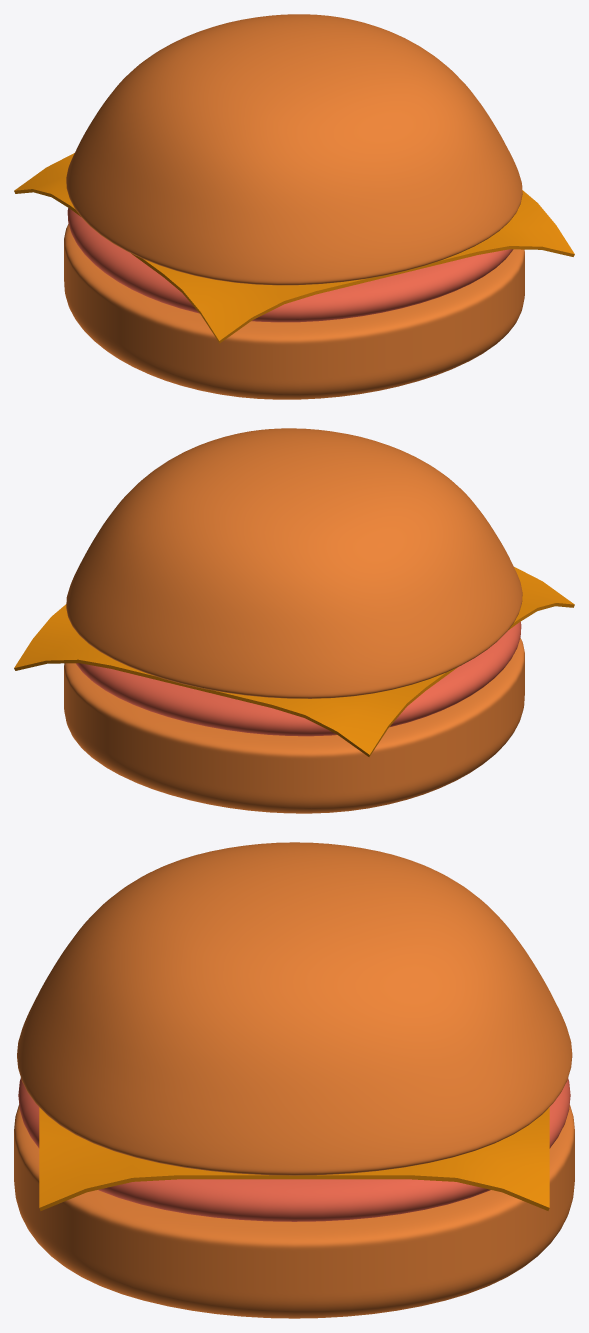
Rendered from hamburger.glb.
3 views of the same model, one above another, from view 1: azimuth 30°, elevation 25°; view 2: azimuth 150°, elevation 25°; view 3: azimuth 270°, elevation 25° (orthographic). The views are drawn at different scales.
Parts seen in each view (by area): view 1: Cube.002, Cube, Cube.001, Plane; view 2: Cube.002, Cube, Cube.001, Plane; view 3: Cube.002, Cube, Plane, Cube.001.
Part boxes in pixels (left/top/right/bottom): Cube.002: left=66, top=14, right=522, bottom=285; Cube: left=64, top=224, right=524, bottom=399; Cube.001: left=67, top=208, right=513, bottom=322; Plane: left=14, top=153, right=574, bottom=343; Cube.002: left=66, top=428, right=522, bottom=698; Cube: left=64, top=638, right=524, bottom=813; Cube.001: left=76, top=622, right=521, bottom=736; Plane: left=14, top=567, right=574, bottom=756; Cube.002: left=17, top=842, right=572, bottom=1175; Cube: left=14, top=1104, right=574, bottom=1318; Plane: left=39, top=1107, right=549, bottom=1210; Cube.001: left=18, top=1078, right=570, bottom=1221.
Bounding box in the file's own units: 1.83 × 1.26 × 1.83.
